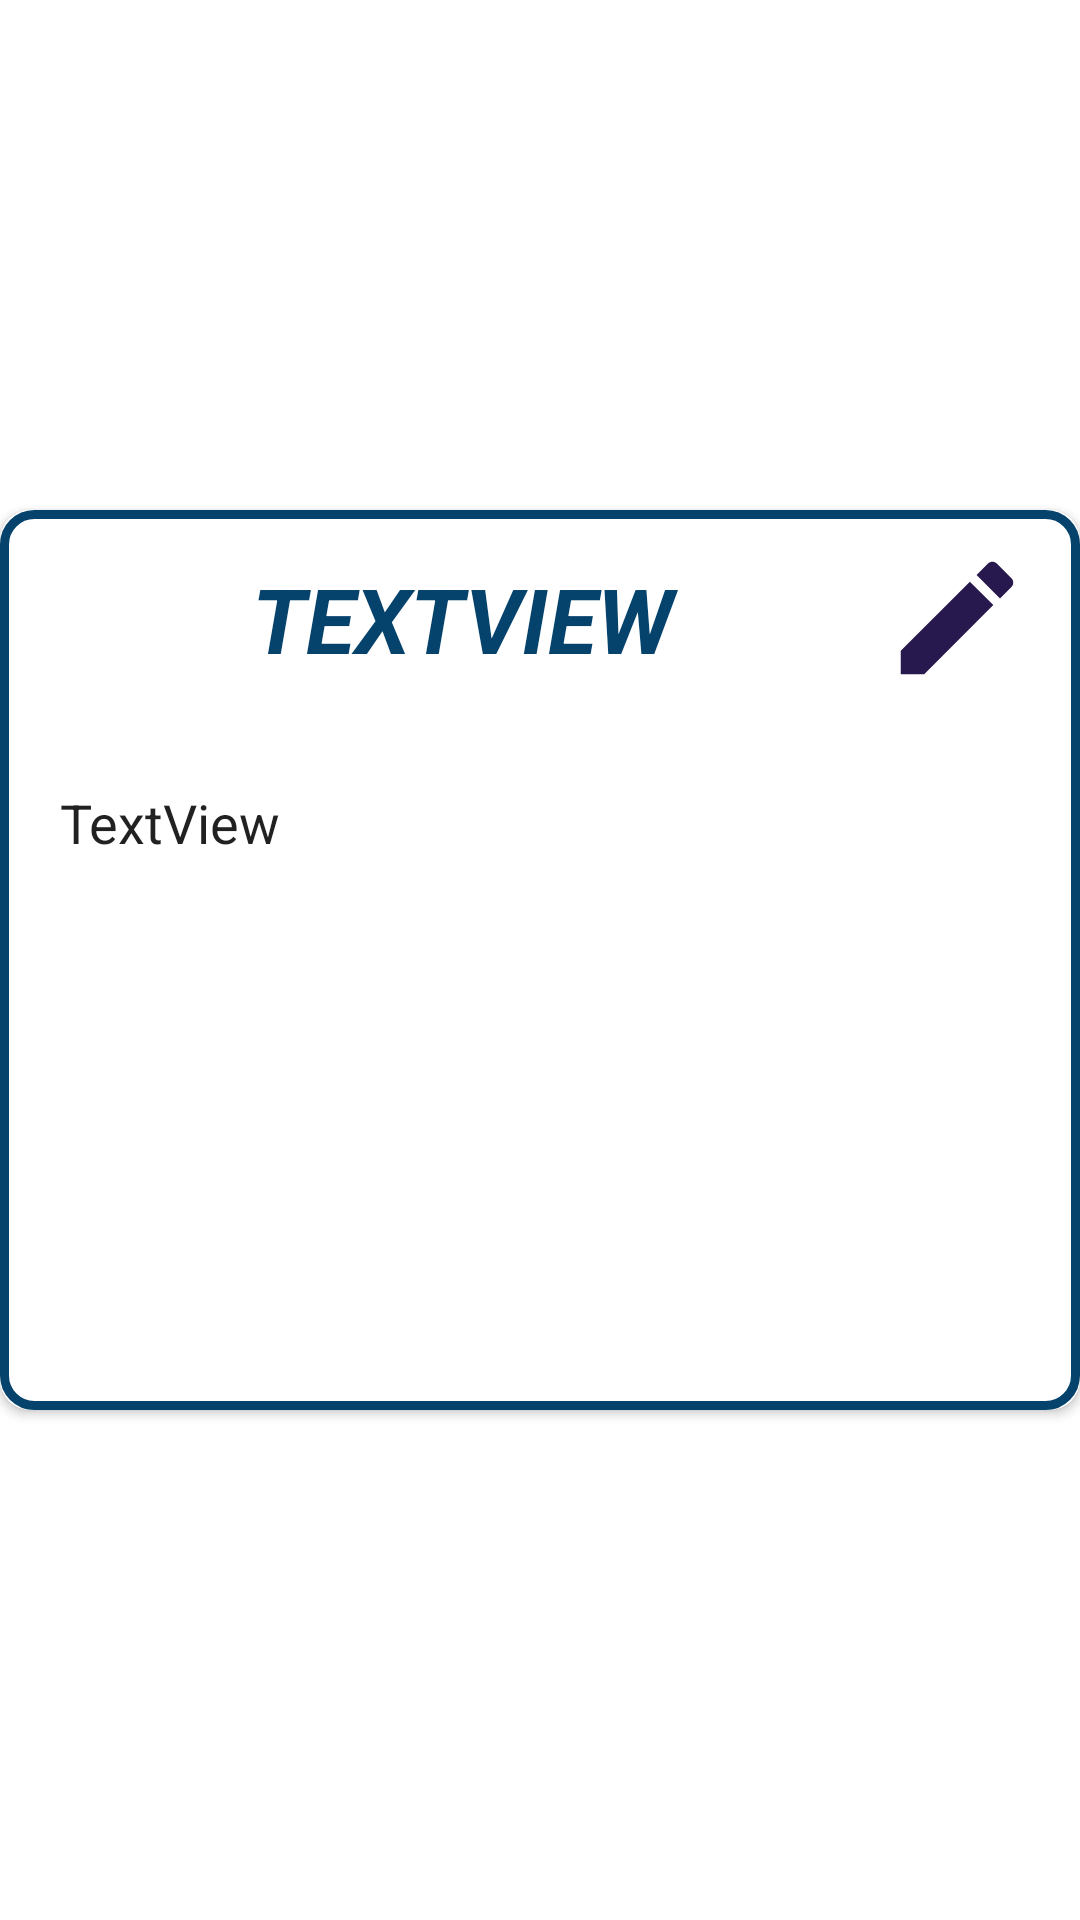

Screen size 1080×1920. Icon name, then its box in pixels as (x1, y1, x2, y2):
edit: (900, 561, 1014, 675)
